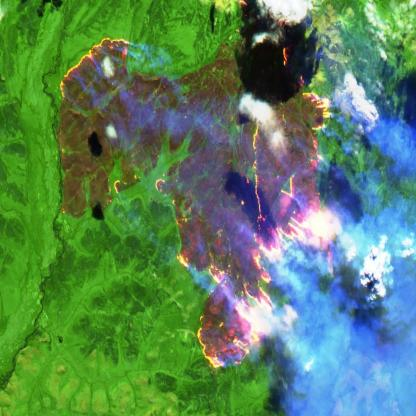fire: (53, 0, 344, 379)
